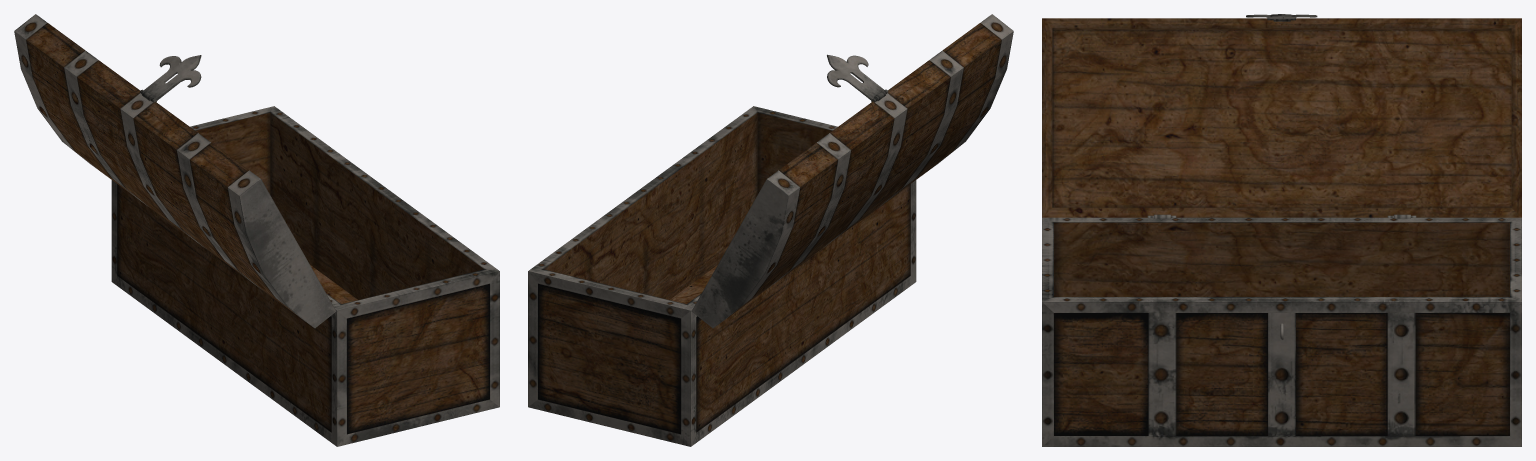
The model's file is cofre animado.fbx.
The picture shows the model from 3 angles, left to right: view 1: azimuth 30°, elevation 25°; view 2: azimuth 150°, elevation 25°; view 3: azimuth 270°, elevation 25°; orthographic projection. The views are drawn at different scales.
Visible parts, largest first — view 1: Object_2.003, Object_2.004; view 2: Object_2.003, Object_2.004; view 3: Object_2.003, Object_2.004.
Boxes of the visible parts, <box> form: Object_2.003: <box>111,106,499,446</box>; Object_2.004: <box>14,14,336,328</box>; Object_2.003: <box>528,106,916,446</box>; Object_2.004: <box>691,14,1013,328</box>; Object_2.003: <box>1042,217,1521,446</box>; Object_2.004: <box>1042,14,1521,218</box>.
Size of the model in its own units: 129 by 144 by 187.
Materials: 1 (1 with a texture image).
